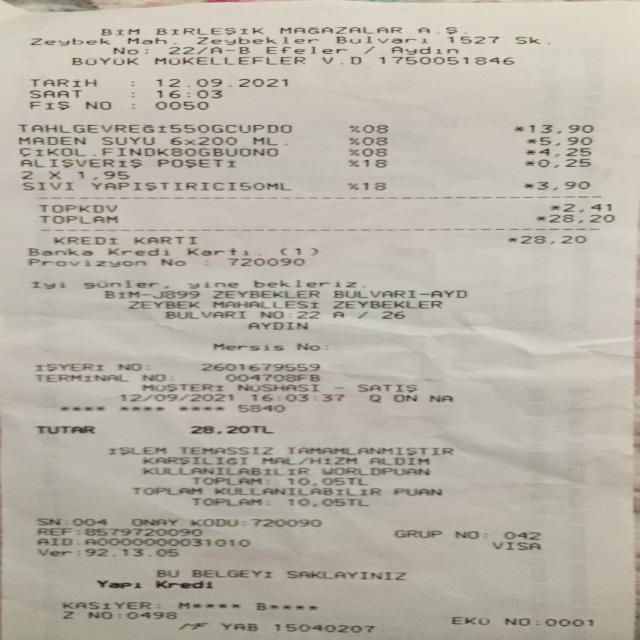text: (18, 123, 290, 134), (19, 147, 277, 157), (90, 180, 290, 192), (142, 465, 308, 476), (85, 537, 249, 548), (287, 446, 453, 456), (214, 486, 380, 496), (154, 54, 304, 65), (378, 53, 512, 65), (156, 76, 287, 88), (286, 568, 404, 581), (28, 256, 146, 268), (201, 361, 319, 373), (85, 526, 202, 537), (196, 35, 317, 45), (20, 158, 141, 168), (333, 299, 441, 310), (212, 288, 318, 299), (212, 299, 318, 310), (120, 392, 232, 402), (250, 391, 343, 403), (273, 622, 374, 633), (321, 466, 429, 476), (155, 26, 262, 36), (279, 26, 400, 34), (192, 568, 271, 580), (332, 288, 418, 299), (178, 446, 272, 456), (226, 255, 304, 267), (253, 279, 357, 288), (34, 372, 126, 382), (335, 34, 426, 44), (62, 600, 151, 610), (142, 456, 248, 464), (225, 373, 319, 382), (85, 548, 179, 557), (252, 516, 321, 528), (190, 424, 272, 434), (28, 36, 108, 46), (265, 45, 345, 55), (82, 279, 162, 289), (165, 310, 245, 320), (287, 476, 367, 486), (29, 76, 95, 88), (36, 361, 102, 373), (157, 158, 236, 168), (127, 299, 198, 310), (156, 88, 221, 100), (38, 204, 116, 214), (39, 214, 116, 224), (236, 383, 318, 392), (142, 383, 223, 392), (287, 498, 367, 507), (71, 54, 136, 65), (26, 246, 90, 257), (54, 234, 116, 245), (134, 234, 196, 245), (191, 476, 259, 486), (156, 578, 212, 590), (18, 136, 85, 146), (170, 136, 237, 146), (391, 44, 456, 54), (549, 213, 614, 223), (192, 496, 257, 506), (528, 124, 592, 134), (131, 486, 201, 495), (29, 88, 81, 100), (185, 246, 247, 256), (186, 278, 237, 290), (22, 180, 72, 192), (546, 616, 596, 628), (108, 246, 167, 256), (491, 539, 540, 551), (519, 235, 584, 244), (155, 100, 208, 111), (108, 446, 166, 456), (78, 170, 128, 181), (369, 456, 428, 465), (101, 136, 154, 146), (537, 158, 590, 168), (96, 578, 140, 590), (358, 383, 416, 392), (36, 425, 94, 434), (536, 180, 588, 190), (446, 34, 497, 44), (131, 516, 177, 527), (540, 136, 590, 146), (126, 610, 176, 620), (212, 343, 282, 350), (247, 321, 307, 329), (394, 529, 441, 539), (538, 147, 590, 156), (191, 518, 242, 527), (417, 25, 466, 34), (320, 54, 360, 65), (154, 289, 198, 299), (563, 203, 611, 212), (237, 403, 285, 412), (393, 487, 441, 496), (452, 614, 488, 626), (29, 100, 68, 111), (309, 456, 356, 465), (31, 278, 65, 290), (280, 246, 320, 256), (430, 288, 466, 299), (126, 36, 165, 46), (100, 26, 138, 36), (116, 362, 154, 371), (503, 531, 541, 540), (73, 516, 107, 526), (36, 536, 70, 546), (36, 526, 69, 536), (159, 255, 184, 268), (453, 527, 478, 540), (103, 289, 135, 299), (221, 622, 256, 631), (36, 547, 67, 557), (84, 100, 110, 111), (261, 456, 292, 465), (514, 34, 540, 44), (252, 136, 278, 146), (393, 392, 416, 403), (87, 610, 112, 620), (179, 621, 206, 630), (430, 392, 452, 403), (156, 567, 178, 578), (112, 45, 136, 55), (168, 45, 192, 55), (361, 136, 385, 146), (362, 147, 386, 157), (381, 310, 405, 320), (506, 616, 530, 626), (259, 310, 282, 320), (362, 125, 386, 134), (361, 181, 385, 190), (141, 372, 162, 382), (294, 342, 318, 350), (300, 310, 319, 320), (362, 158, 384, 166), (37, 518, 60, 525), (178, 599, 189, 610), (238, 45, 249, 55), (363, 44, 373, 55), (22, 170, 32, 181), (49, 170, 59, 181), (522, 180, 533, 190), (369, 392, 379, 403), (196, 45, 206, 55), (210, 45, 220, 55), (348, 136, 358, 146), (513, 124, 523, 134), (525, 147, 535, 157), (524, 158, 534, 168), (535, 213, 545, 223), (333, 310, 343, 320), (357, 310, 367, 320), (63, 610, 73, 620), (224, 45, 233, 55), (349, 125, 359, 134), (526, 136, 535, 146), (347, 181, 357, 190), (550, 203, 560, 212), (256, 600, 265, 610), (535, 616, 543, 627), (507, 235, 516, 244), (348, 148, 358, 156), (348, 158, 358, 166), (333, 385, 345, 391), (264, 476, 270, 486), (64, 516, 70, 526), (302, 456, 308, 465), (289, 310, 294, 320), (263, 497, 268, 506)
